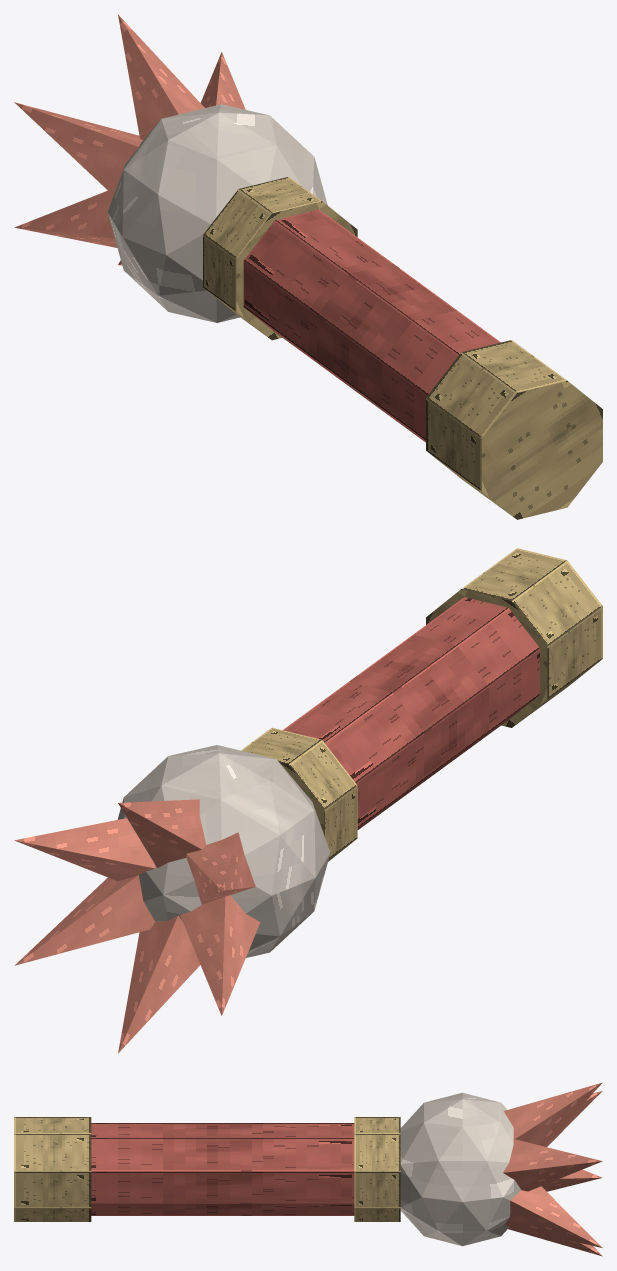
File: proj_flare.gltf
3 renders of one model, top to bottom at view 1: azimuth 30°, elevation 25°; view 2: azimuth 150°, elevation 25°; view 3: azimuth 270°, elevation 25°, orthographic. The views are drawn at different scales.
Parts seen in each view (by area): view 1: body, glow; view 2: glow, body; view 3: body, glow.
Part boxes in pixels (x1,y1,x2,y2): body: (203, 176, 602, 519); glow: (14, 14, 327, 322); glow: (14, 745, 330, 1053); body: (241, 548, 602, 861); body: (14, 1117, 400, 1221); glow: (400, 1082, 602, 1256).
Bounding box in the file's own units: 0.1076 × 0.1242 × 0.3808.
2 materials, 2 textured.
